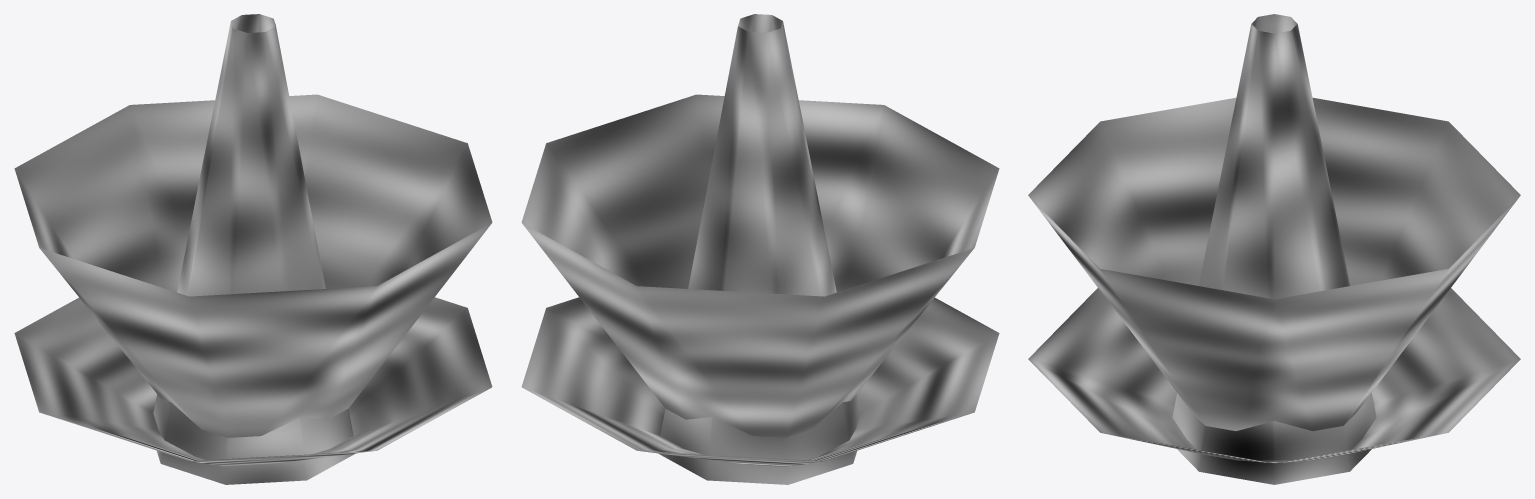
File: SWS_ParticleMeshes.fbx
The picture shows the model from 3 angles, left to right: view 1: azimuth 30°, elevation 25°; view 2: azimuth 150°, elevation 25°; view 3: azimuth 270°, elevation 25°; orthographic projection.
Visible parts, largest first — view 1: SWS_ParticleSplashCone_High, SWS_ParticleSplashDunk, SWS_ParticleSplashCone_Low; view 2: SWS_ParticleSplashCone_High, SWS_ParticleSplashDunk, SWS_ParticleSplashCone_Low; view 3: SWS_ParticleSplashCone_High, SWS_ParticleSplashDunk, SWS_ParticleSplashCone_Low.
Boxes of the visible parts, x1,y1,x2,y2 form: SWS_ParticleSplashCone_High: [14, 94, 492, 437]; SWS_ParticleSplashDunk: [153, 14, 355, 484]; SWS_ParticleSplashCone_Low: [14, 297, 492, 466]; SWS_ParticleSplashCone_High: [521, 94, 999, 437]; SWS_ParticleSplashDunk: [658, 14, 860, 484]; SWS_ParticleSplashCone_Low: [521, 297, 999, 466]; SWS_ParticleSplashCone_High: [1028, 97, 1520, 430]; SWS_ParticleSplashDunk: [1172, 14, 1376, 484]; SWS_ParticleSplashCone_Low: [1028, 288, 1520, 463].
Size of what is drawn, in the model's own units: 0.0084 by 0.00782 by 0.0084.
1 material, 1 textured.
